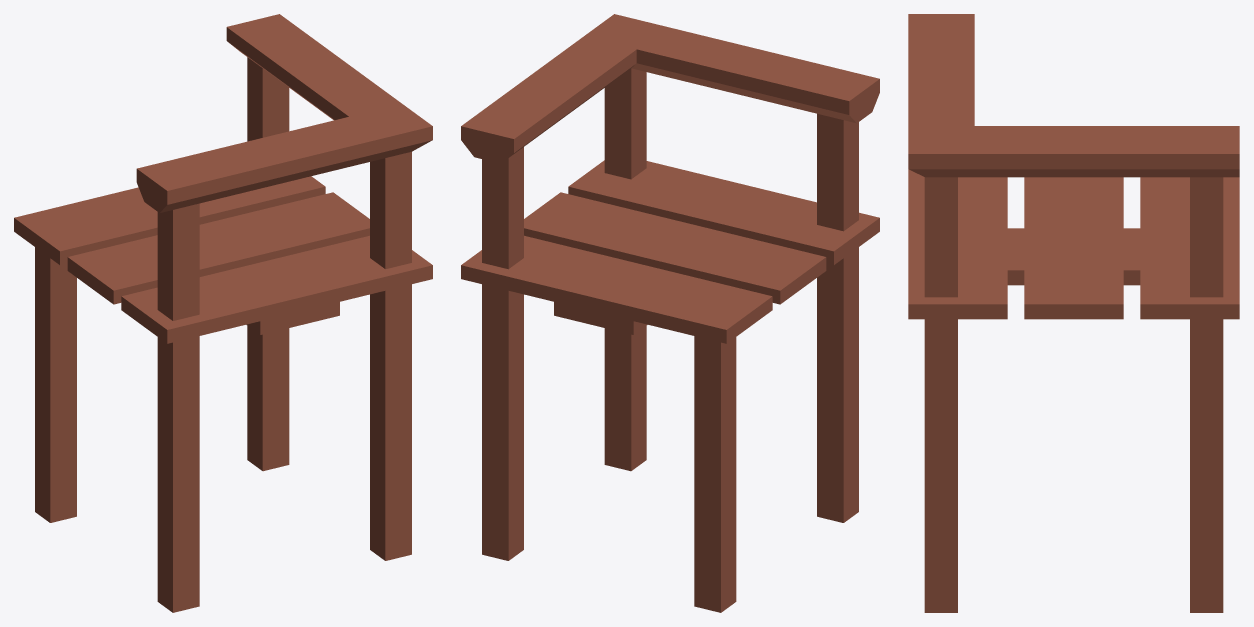
Rendered from scaffold_small_medium_cornerLeft 1.fbx.
3 views of the same model, side by side, from view 1: azimuth 30°, elevation 25°; view 2: azimuth 150°, elevation 25°; view 3: azimuth 270°, elevation 25° (orthographic). The views are drawn at different scales.
Visible parts, largest first — view 1: scaffold_small_medium_cornerLeft; view 2: scaffold_small_medium_cornerLeft; view 3: scaffold_small_medium_cornerLeft.
Part boxes in pixels (x1,y1,x2,y2): scaffold_small_medium_cornerLeft: (14, 14, 432, 612); scaffold_small_medium_cornerLeft: (461, 14, 879, 612); scaffold_small_medium_cornerLeft: (908, 14, 1239, 612).
Size of the model in its own units: 200 by 310 by 200.
